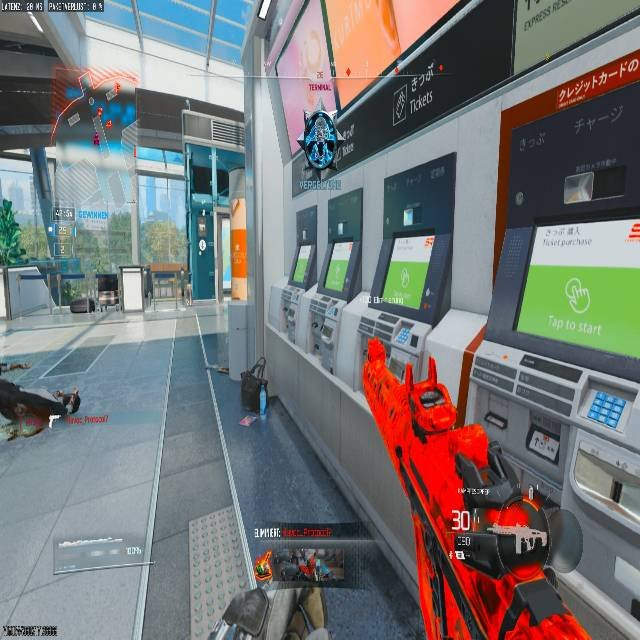head: (52, 389, 80, 415)
player: (202, 546, 340, 639), (299, 105, 342, 177)
